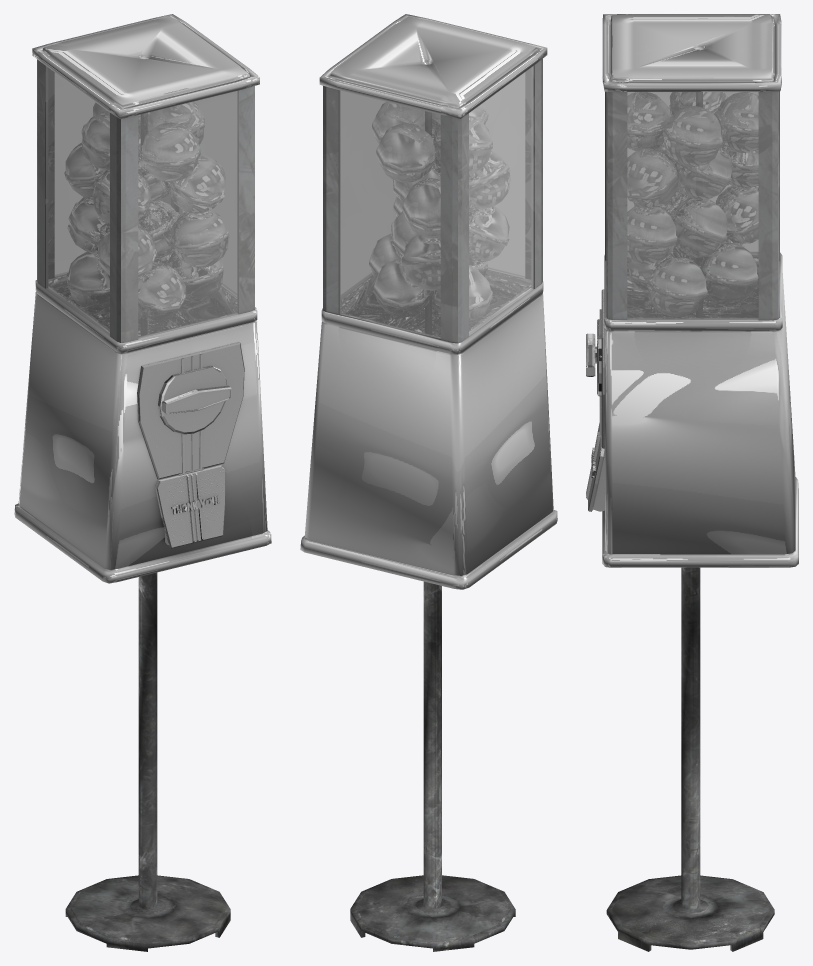
The model's file is FinalGachaMachine.dae.
3 renders of one model, left to right at view 1: azimuth 30°, elevation 25°; view 2: azimuth 150°, elevation 25°; view 3: azimuth 270°, elevation 25°, orthographic.
Parts seen in each view (by area): view 1: Cube; view 2: Cube; view 3: Cube.
Part boxes in pixels (x1=…): Cube: x1=14, y1=14, x2=271, y2=951; Cube: x1=300, y1=14, x2=557, y2=951; Cube: x1=586, y1=14, x2=798, y2=951.
Bounding box in the file's own units: 0.5773 × 0.6256 × 2.84.
6 materials, 6 textured.
